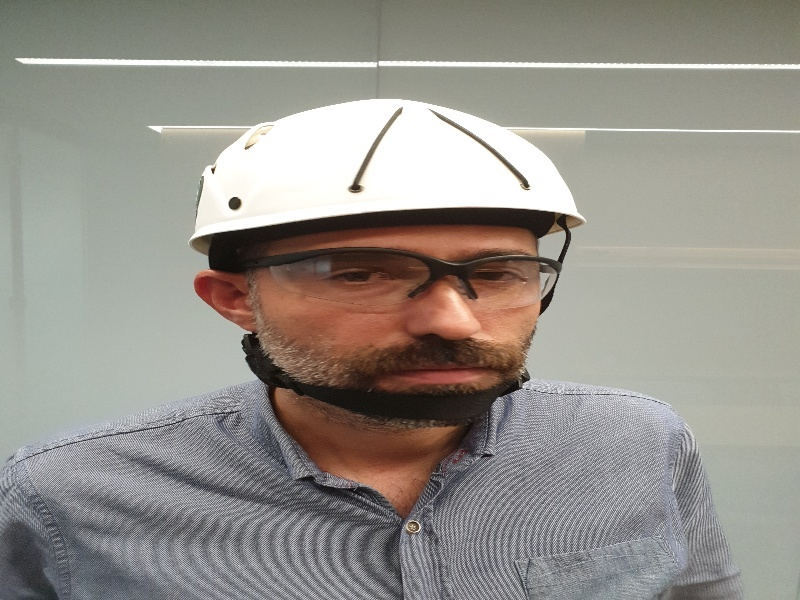Baret: (193, 99, 586, 256)
Gozluk: (229, 247, 563, 311)
